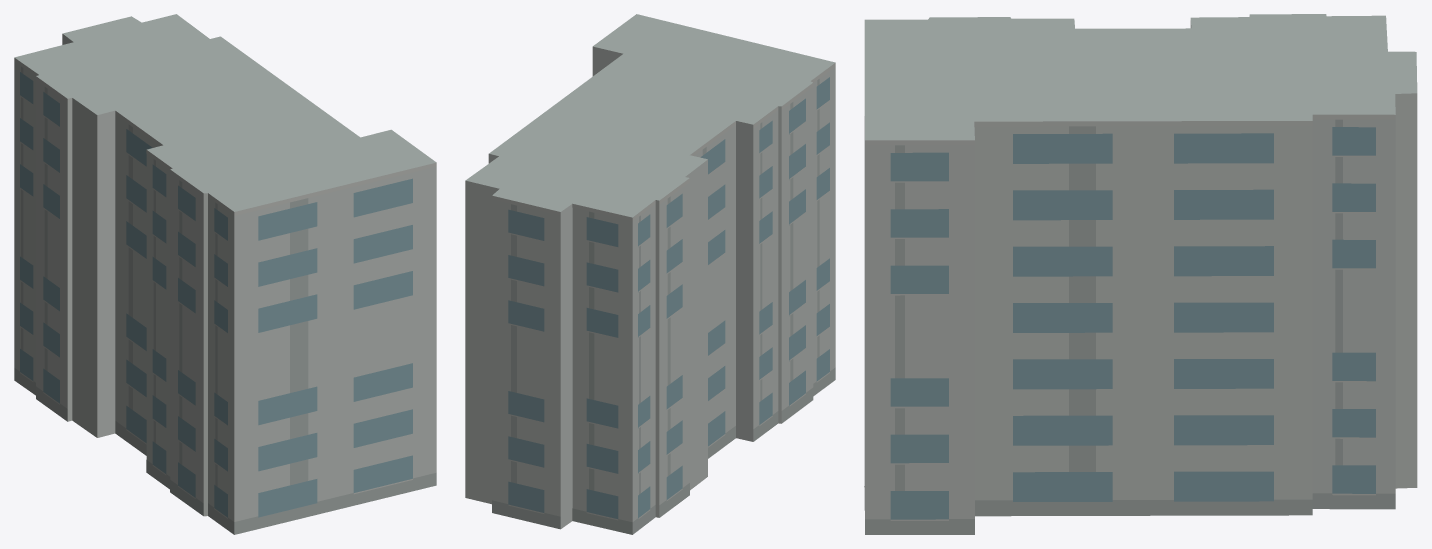
File: survey-upis-32822028.glb
3 views of the same model, side by side, from view 1: azimuth 30°, elevation 25°; view 2: azimuth 150°, elevation 25°; view 3: azimuth 270°, elevation 25° (orthographic). The views are drawn at different scales.
Parts seen in each view (by area): view 1: survey-upis-32822028.tmp; view 2: survey-upis-32822028.tmp; view 3: survey-upis-32822028.tmp.
Boxes of the visible parts, <box> form: survey-upis-32822028.tmp: <box>14,14,436,534</box>; survey-upis-32822028.tmp: <box>465,14,835,534</box>; survey-upis-32822028.tmp: <box>864,14,1417,534</box>.
Size of the model in its own units: 13.21 by 19.2 by 24.39.
